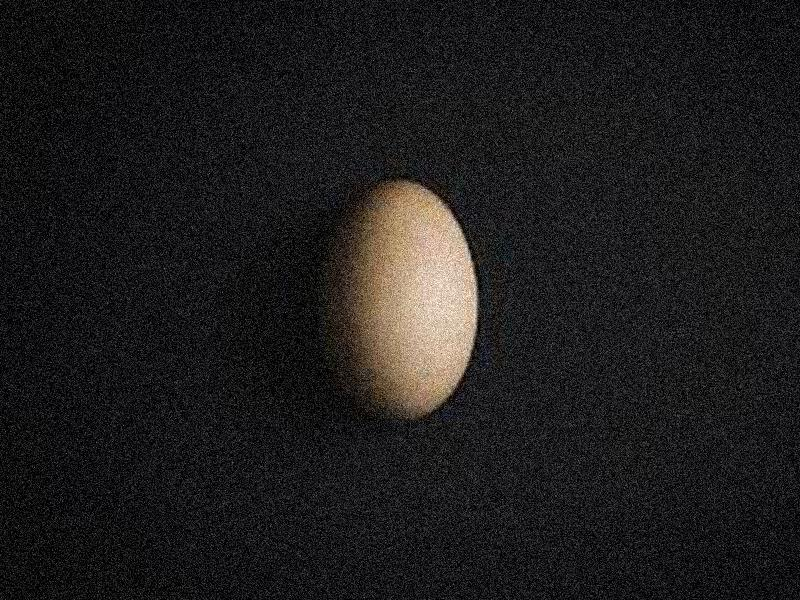Eggs: (323, 174, 477, 423)
